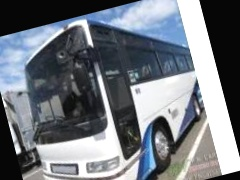bus: (7, 0, 221, 180)
